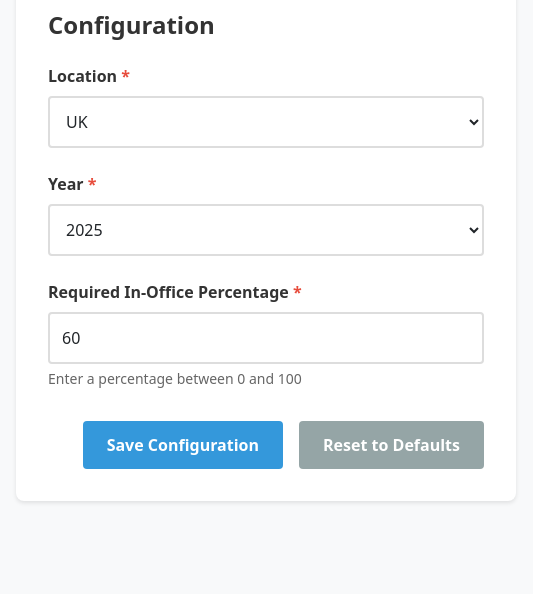
Test case: ConfigurationForm › Configuration Saving › saves valid configuration successfully
Note: Fill form with valid data
Select "US" in the dropdown labelled "Location *". click: (266, 122)
box: [48,96,484,148]
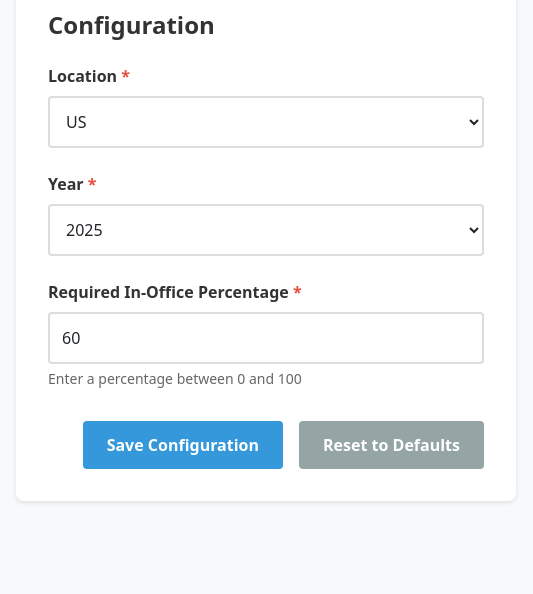
Select "2024" in the dropdown labelled "Year *". click: (266, 230)
box: [48,204,484,256]
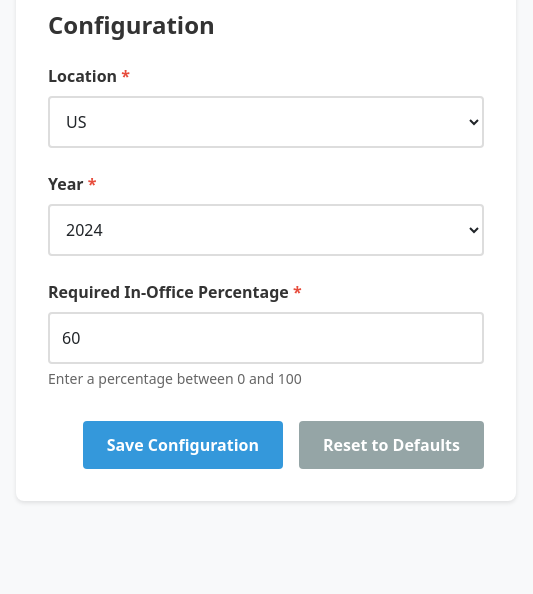
Replace the text in the number field labelled "Required In-Office Percentage *" with "80". click: (266, 338)
box: [48,312,484,364]
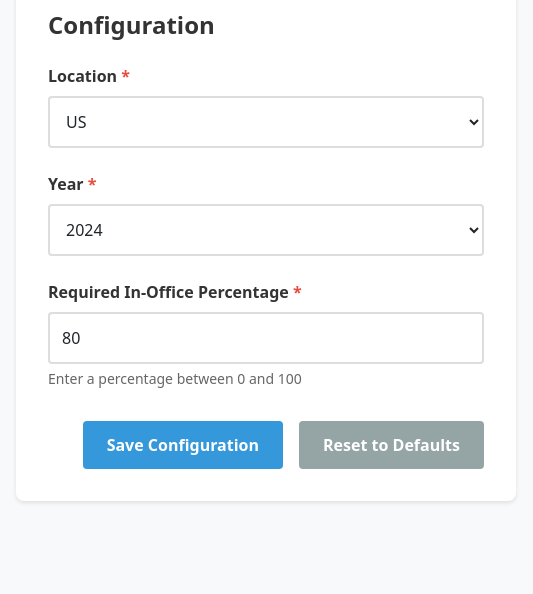
Note: Submit form
Click the button "Save Configuration". click: (183, 445)
box: [83,421,283,469]
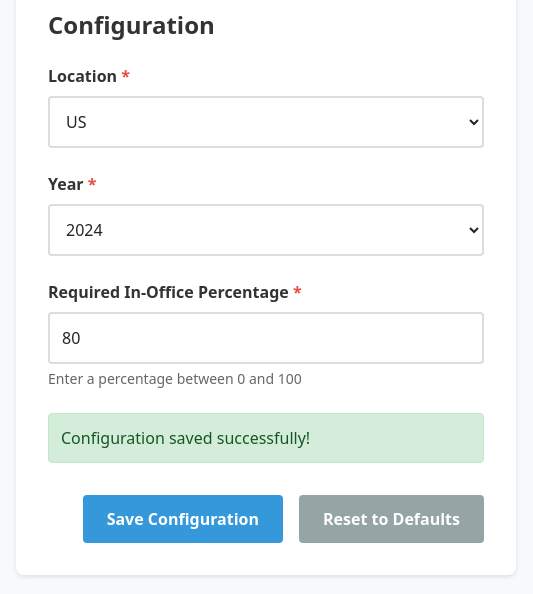
Now the text "Configuration saved successfully!" is shown, box [48,413,484,463]
